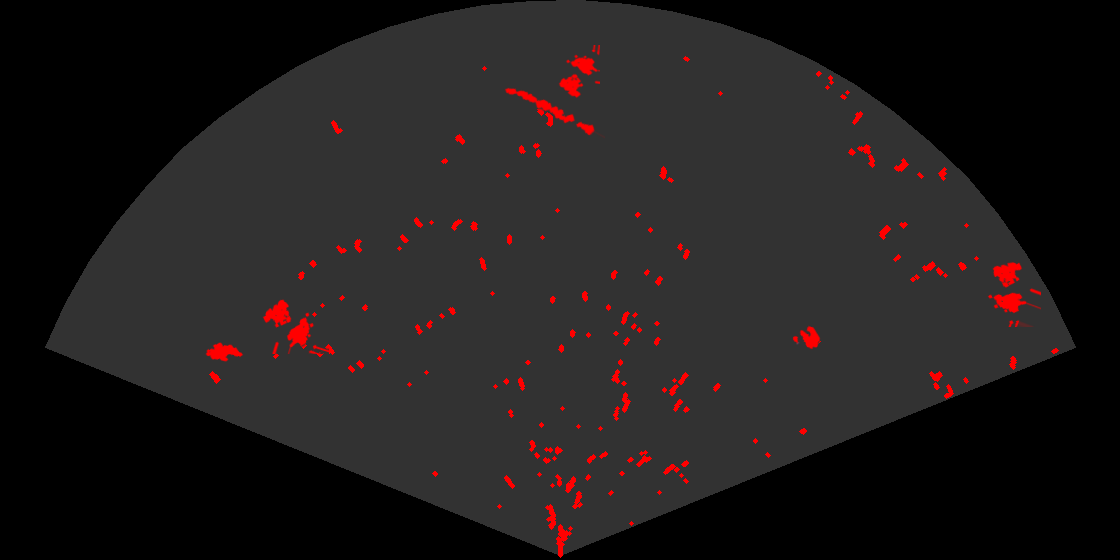AUV: (204, 341, 245, 363)
ball: (791, 324, 822, 351)
cage: (261, 298, 329, 354), (986, 260, 1041, 327), (557, 45, 600, 100)
chain: (503, 86, 605, 140)
